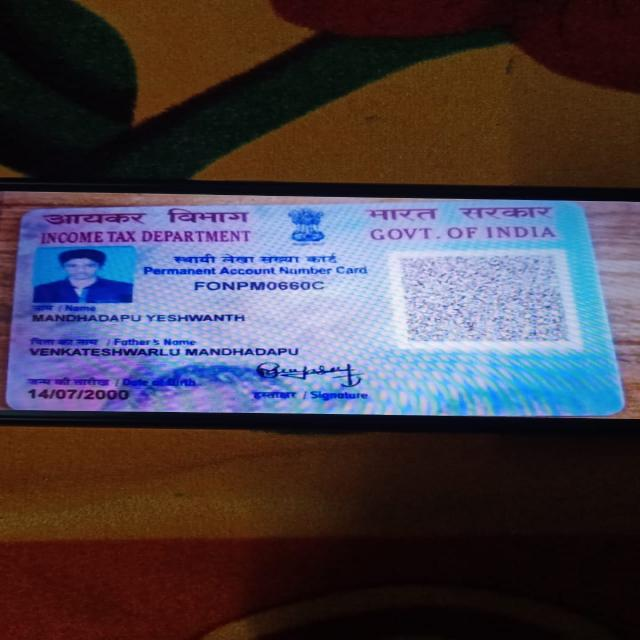pan_card: (6, 200, 622, 410)
